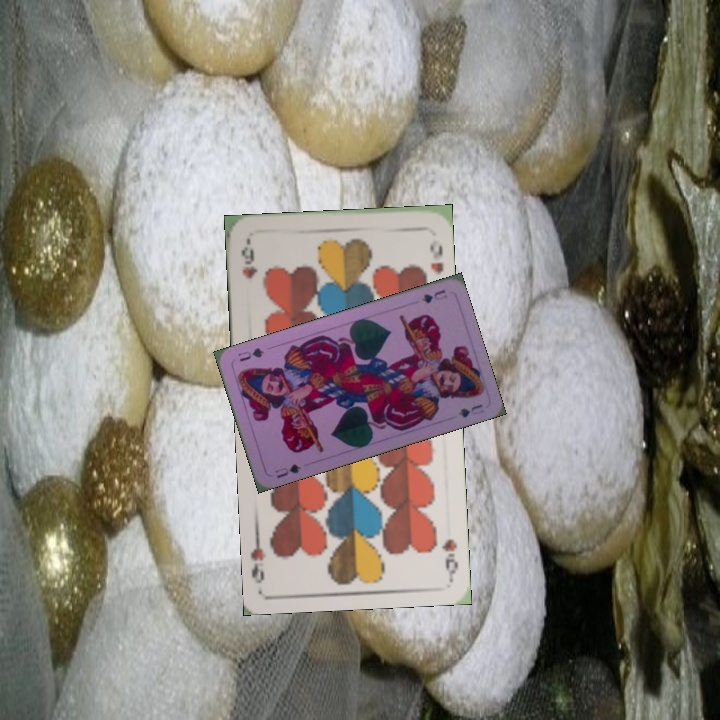GU: (271, 460, 304, 481), (417, 285, 450, 306)
H9: (437, 535, 460, 579), (237, 239, 261, 281)
